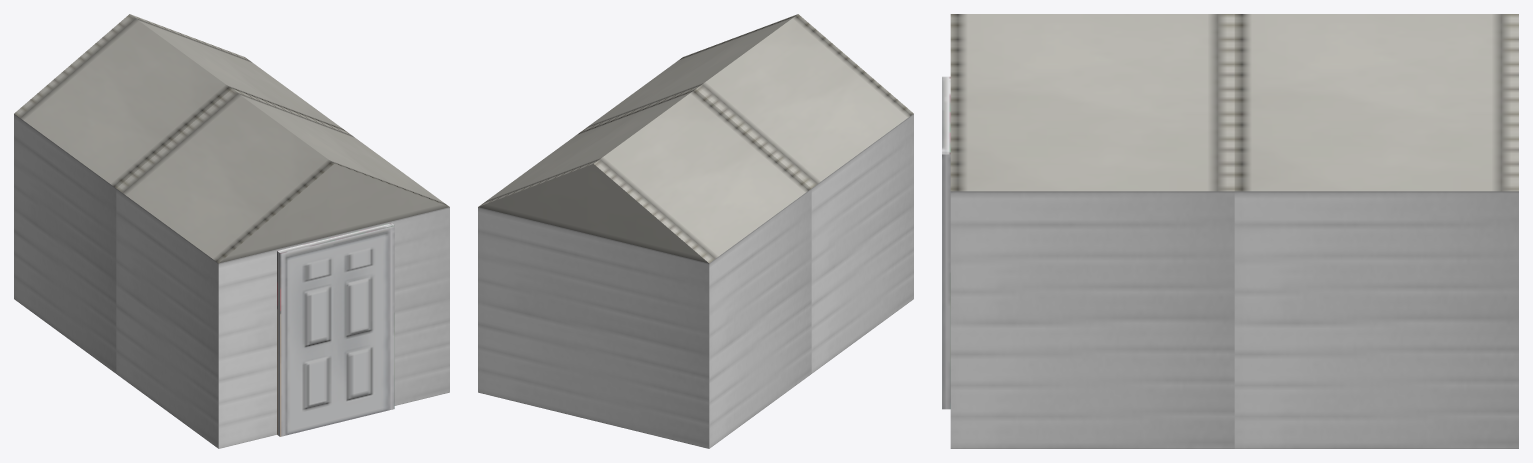
The model's file is Shed_1.fbx.
3 renders of one model, left to right at view 1: azimuth 30°, elevation 25°; view 2: azimuth 150°, elevation 25°; view 3: azimuth 270°, elevation 25°, orthographic. The views are drawn at different scales.
Parts seen in each view (by area): view 1: Maya_File_Assets:TexturedAssetsCurrent:Clean_Metal_Shed; view 2: Maya_File_Assets:TexturedAssetsCurrent:Clean_Metal_Shed; view 3: Maya_File_Assets:TexturedAssetsCurrent:Clean_Metal_Shed.
Boxes of the visible parts, x1,y1,x2,y2 form: Maya_File_Assets:TexturedAssetsCurrent:Clean_Metal_Shed: (14, 14, 449, 448); Maya_File_Assets:TexturedAssetsCurrent:Clean_Metal_Shed: (478, 14, 913, 448); Maya_File_Assets:TexturedAssetsCurrent:Clean_Metal_Shed: (942, 14, 1518, 448).
Size of the model in its own units: 3.21 by 3.41 by 5.
